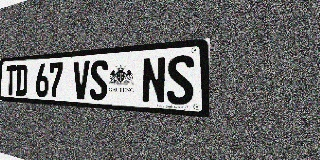6: (36, 63, 49, 97)
7: (49, 62, 63, 98)
D: (16, 65, 27, 96)
N: (142, 56, 166, 104)
S: (167, 54, 194, 105), (90, 60, 108, 101)
T: (5, 65, 16, 96)
V: (73, 61, 90, 100)
